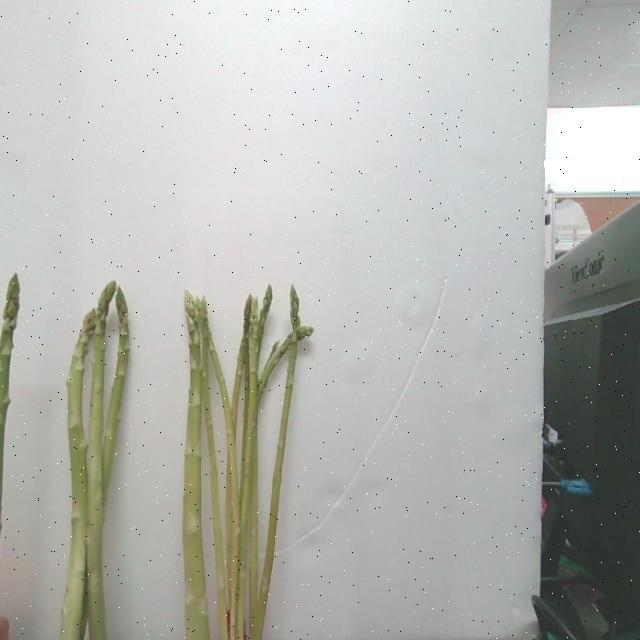aspargus: (61, 309, 96, 640)
